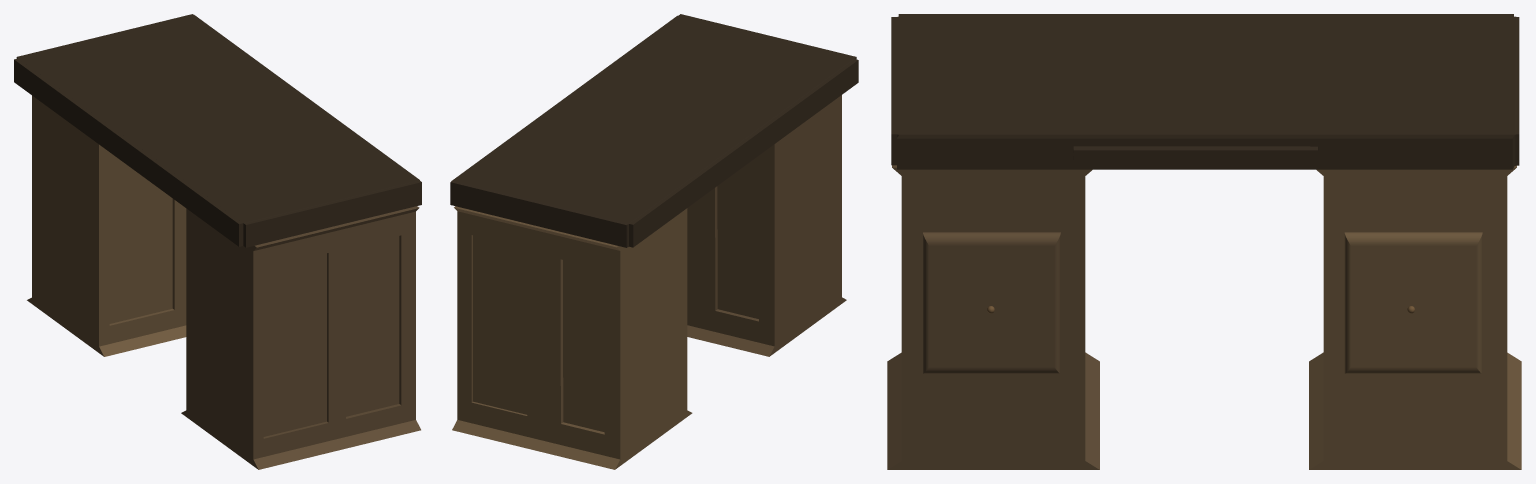
Rendered from Desk V1.2.fbx.
The picture shows the model from 3 angles, left to right: view 1: azimuth 30°, elevation 25°; view 2: azimuth 150°, elevation 25°; view 3: azimuth 270°, elevation 25°; orthographic projection. The views are drawn at different scales.
Parts seen in each view (by area): view 1: Cube.001, Cube, Cube.002; view 2: Cube.002, Cube, Cube.001; view 3: Cube, Cube.001, Cube.002.
Part boxes in pixels (left/top/right/bottom): Cube.001: left=181, top=206, right=420, bottom=469; Cube: left=14, top=14, right=421, bottom=247; Cube.002: left=27, top=95, right=186, bottom=356; Cube.002: left=452, top=206, right=692, bottom=469; Cube: left=450, top=14, right=858, bottom=247; Cube.001: left=687, top=95, right=846, bottom=356; Cube: left=891, top=14, right=1519, bottom=169; Cube.001: left=887, top=165, right=1099, bottom=469; Cube.002: left=1309, top=165, right=1521, bottom=469.
Bounding box in the file's own units: 321 × 395 × 673.
